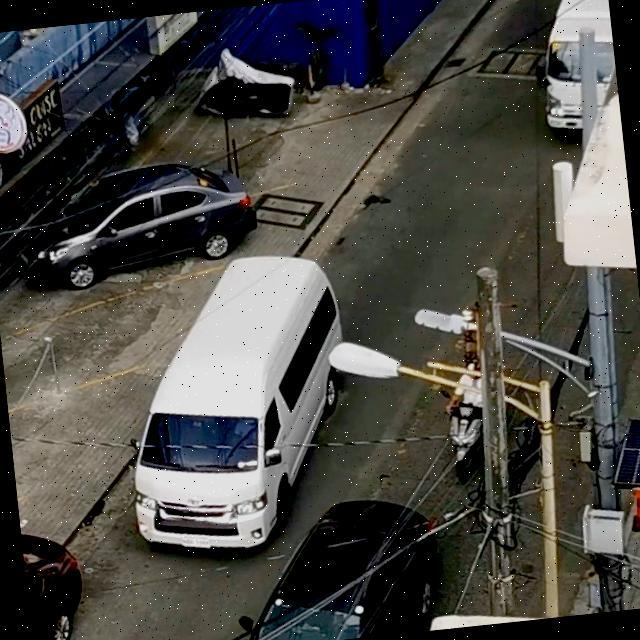Truck: (519, 0, 624, 160)
